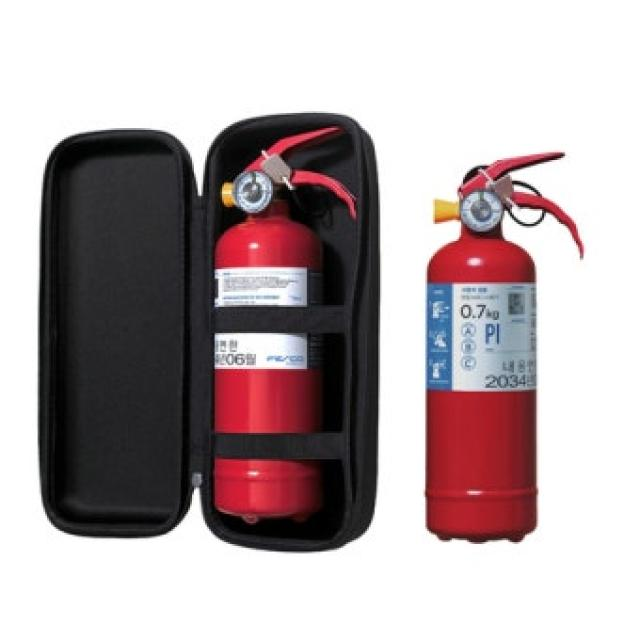pressure gauge: (460, 191, 504, 233), (232, 172, 274, 214)
